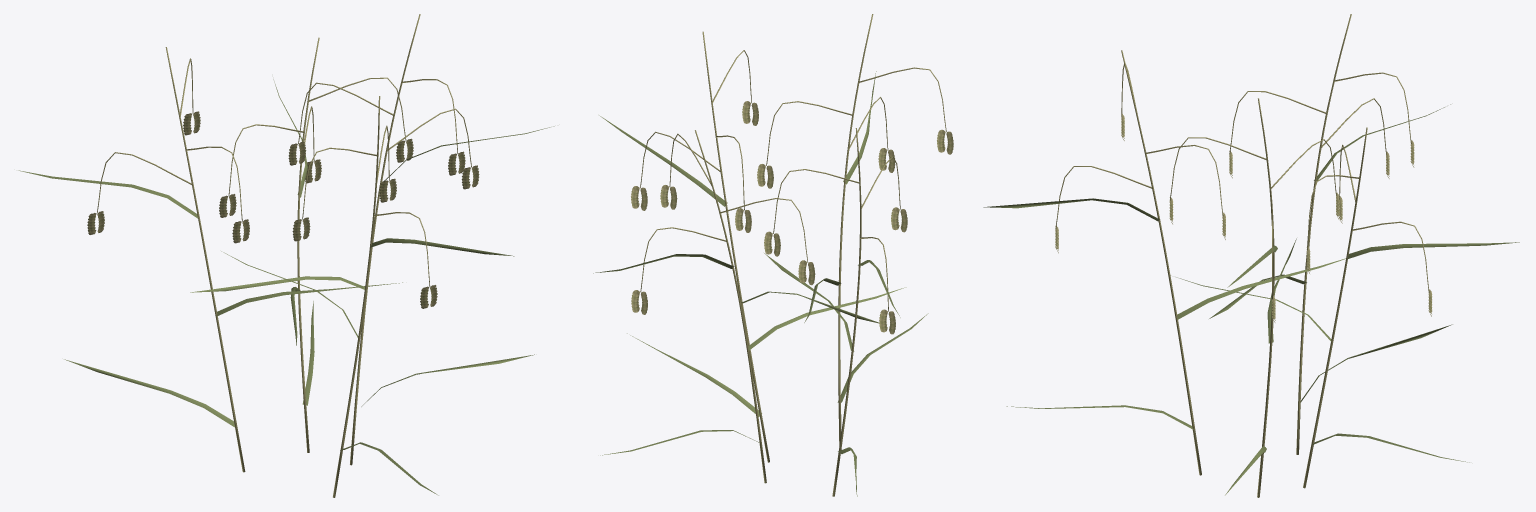
File: Brize_0_Niveau0.fbx
The picture shows the model from 3 angles, left to right: view 1: azimuth 30°, elevation 25°; view 2: azimuth 150°, elevation 25°; view 3: azimuth 270°, elevation 25°; orthographic projection. The views are drawn at different scales.
Parts seen in each view (by area): view 1: Brize_0_Niveau0; view 2: Brize_0_Niveau0; view 3: Brize_0_Niveau0.
Boxes of the visible parts, <box> form: Brize_0_Niveau0: <box>18,14,554,497</box>; Brize_0_Niveau0: <box>593,14,953,496</box>; Brize_0_Niveau0: <box>983,14,1519,497</box>.
Size of the model in its own units: 32.74 by 31.3 by 35.41.
